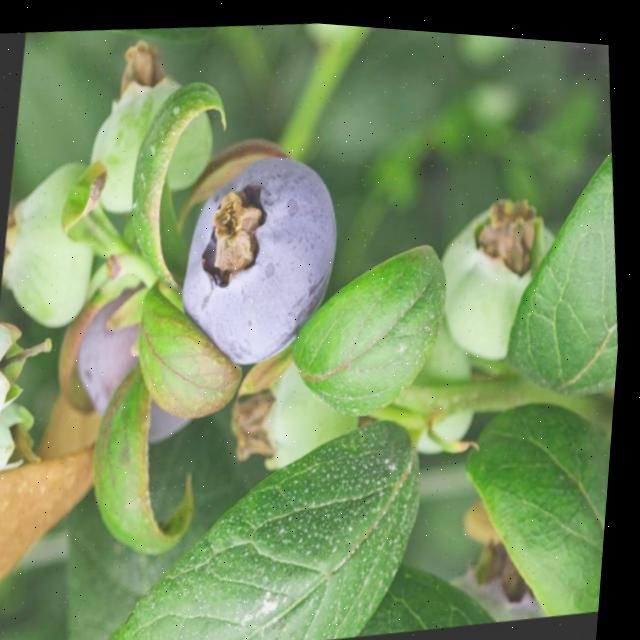RipeBlueBerry: (156, 132, 361, 378)
